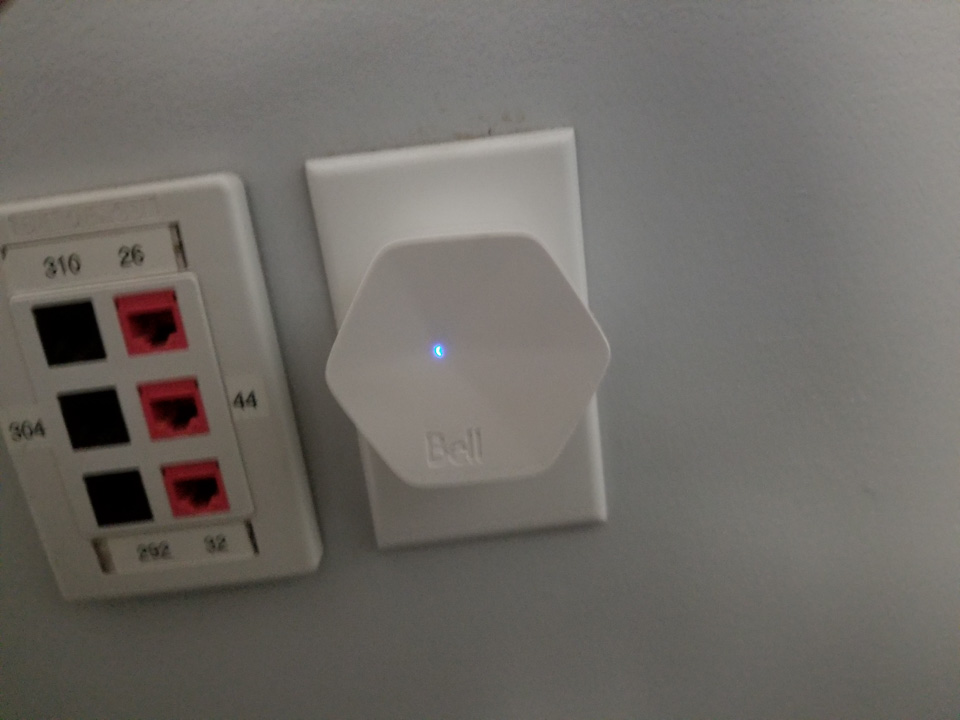pod: (314, 225, 620, 495)
